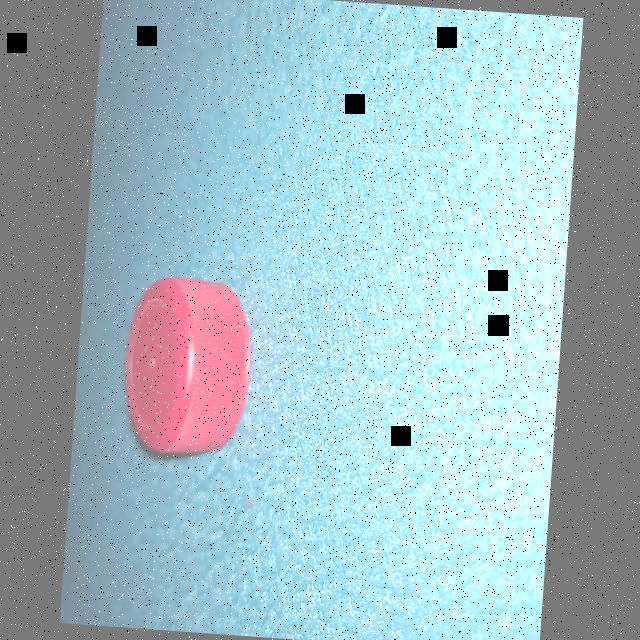plastic_bottle_cap: (117, 272, 255, 458)
